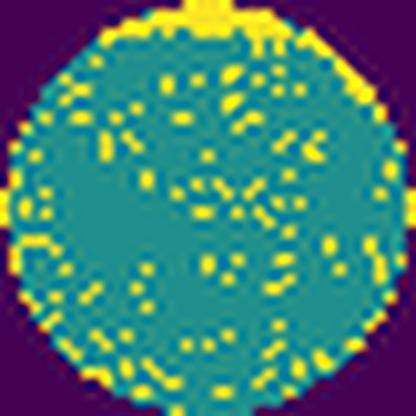Edge-Loc: (96, 0, 294, 50), (296, 24, 388, 127)
